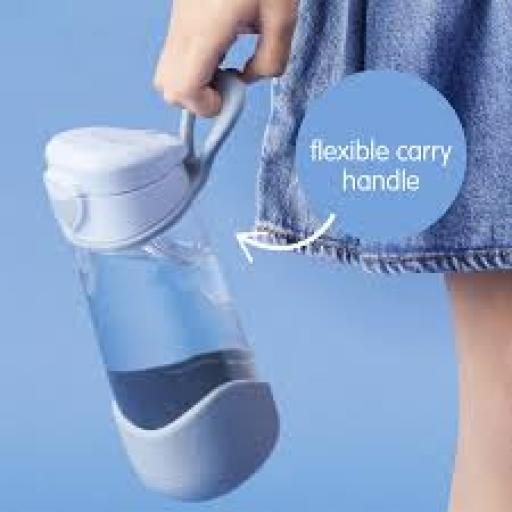blue-bottle: (46, 71, 278, 498)
